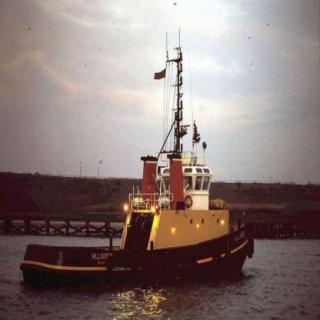Tug Boat: (15, 26, 257, 282)
